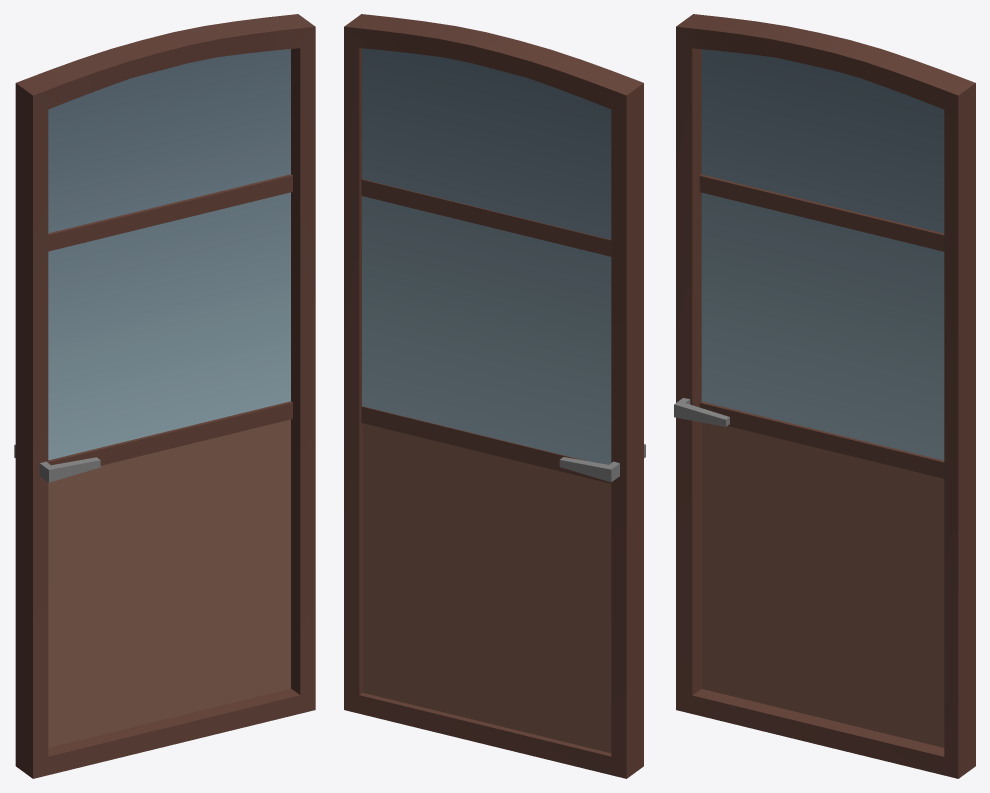
The model's file is SM_Buildings_FireStation_01_Door_02.fbx.
The picture shows the model from 3 angles, left to right: view 1: azimuth 30°, elevation 25°; view 2: azimuth 150°, elevation 25°; view 3: azimuth 330°, elevation 25°; orthographic projection.
Visible parts, largest first — view 1: SM_Buildings_FireStation_01_Door_02; view 2: SM_Buildings_FireStation_01_Door_02; view 3: SM_Buildings_FireStation_01_Door_02.
Part boxes in pixels (<box>): SM_Buildings_FireStation_01_Door_02: <box>14,14,315,778</box>; SM_Buildings_FireStation_01_Door_02: <box>344,14,645,778</box>; SM_Buildings_FireStation_01_Door_02: <box>674,14,975,778</box>.
Bounding box in the file's own units: 1.12 × 2.63 × 0.2362.
